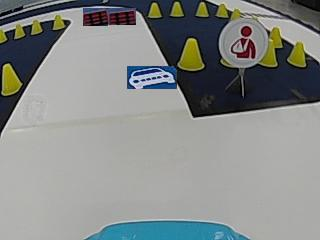cone: (177, 37, 204, 71), (1, 63, 20, 94), (259, 38, 278, 67), (287, 41, 306, 68), (170, 1, 184, 17), (148, 2, 162, 17), (30, 19, 43, 34), (52, 14, 64, 30), (196, 2, 209, 16), (14, 23, 25, 38), (217, 3, 228, 17), (0, 26, 7, 43)
patient: (226, 17, 259, 64)
